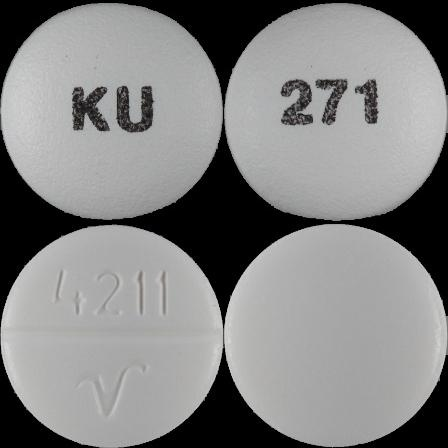43353-769: (0, 0, 224, 224)
